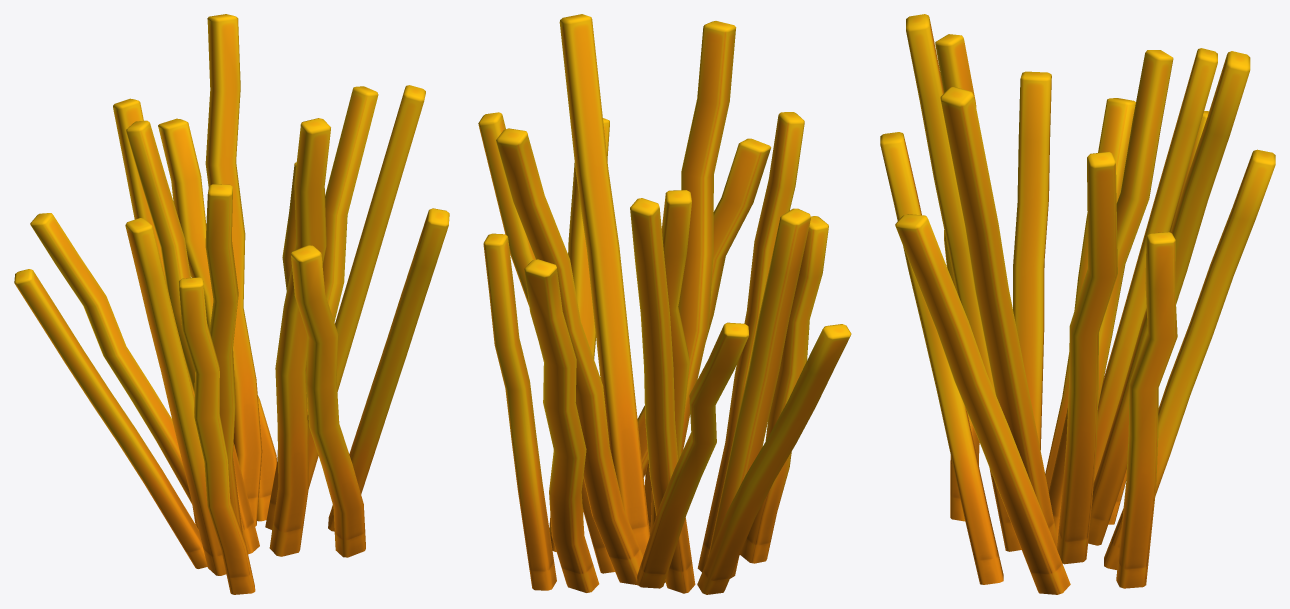
Rendered from PlantSeaweed01_5.FBX.
3 views of the same model, side by side, from view 1: azimuth 30°, elevation 25°; view 2: azimuth 150°, elevation 25°; view 3: azimuth 270°, elevation 25° (orthographic). The views are drawn at different scales.
Parts seen in each view (by area): view 1: PlantSeaweed01_5; view 2: PlantSeaweed01_5; view 3: PlantSeaweed01_5.
Part boxes in pixels (x1=…): PlantSeaweed01_5: x1=14, y1=14, x2=449, y2=594; PlantSeaweed01_5: x1=478, y1=14, x2=851, y2=594; PlantSeaweed01_5: x1=880, y1=14, x2=1275, y2=594.
Size of what is drawn, in the model's own units: 0.48 by 0.6154 by 0.4164.
